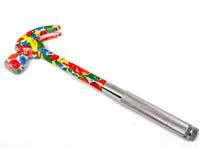hammer: (2, 22, 199, 142)
